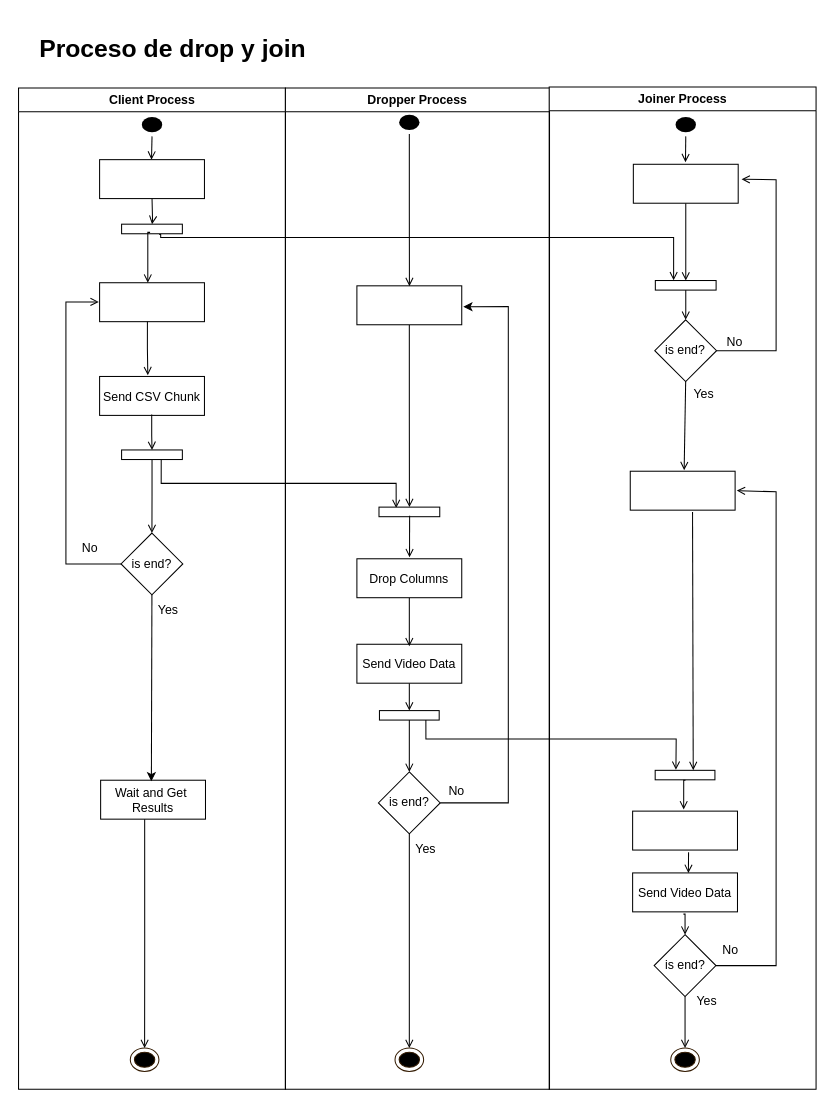
Some shapes in this 834 by 1107 pixel diagram are drawn without their labels. The shapes that lost their labels are listed below. From the top down, each one's centre as x and y in pixels, then its label:
At (151,179): "Send Categories".
At (685,183): "Receive Categories".
At (151,302): "Read CSV Chunk".
At (409,305): "Receive CSV Videos".
At (682,490): "Receive Video Data".
At (684,830): "Join Category".
